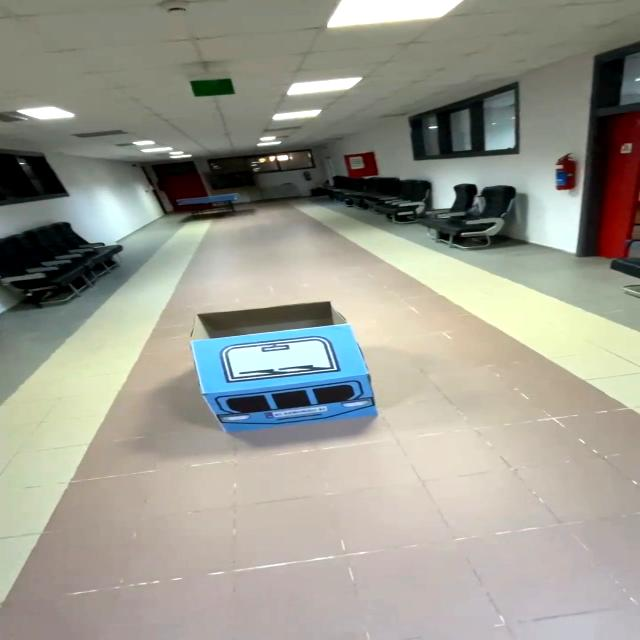blue_car: (160, 292, 402, 445)
